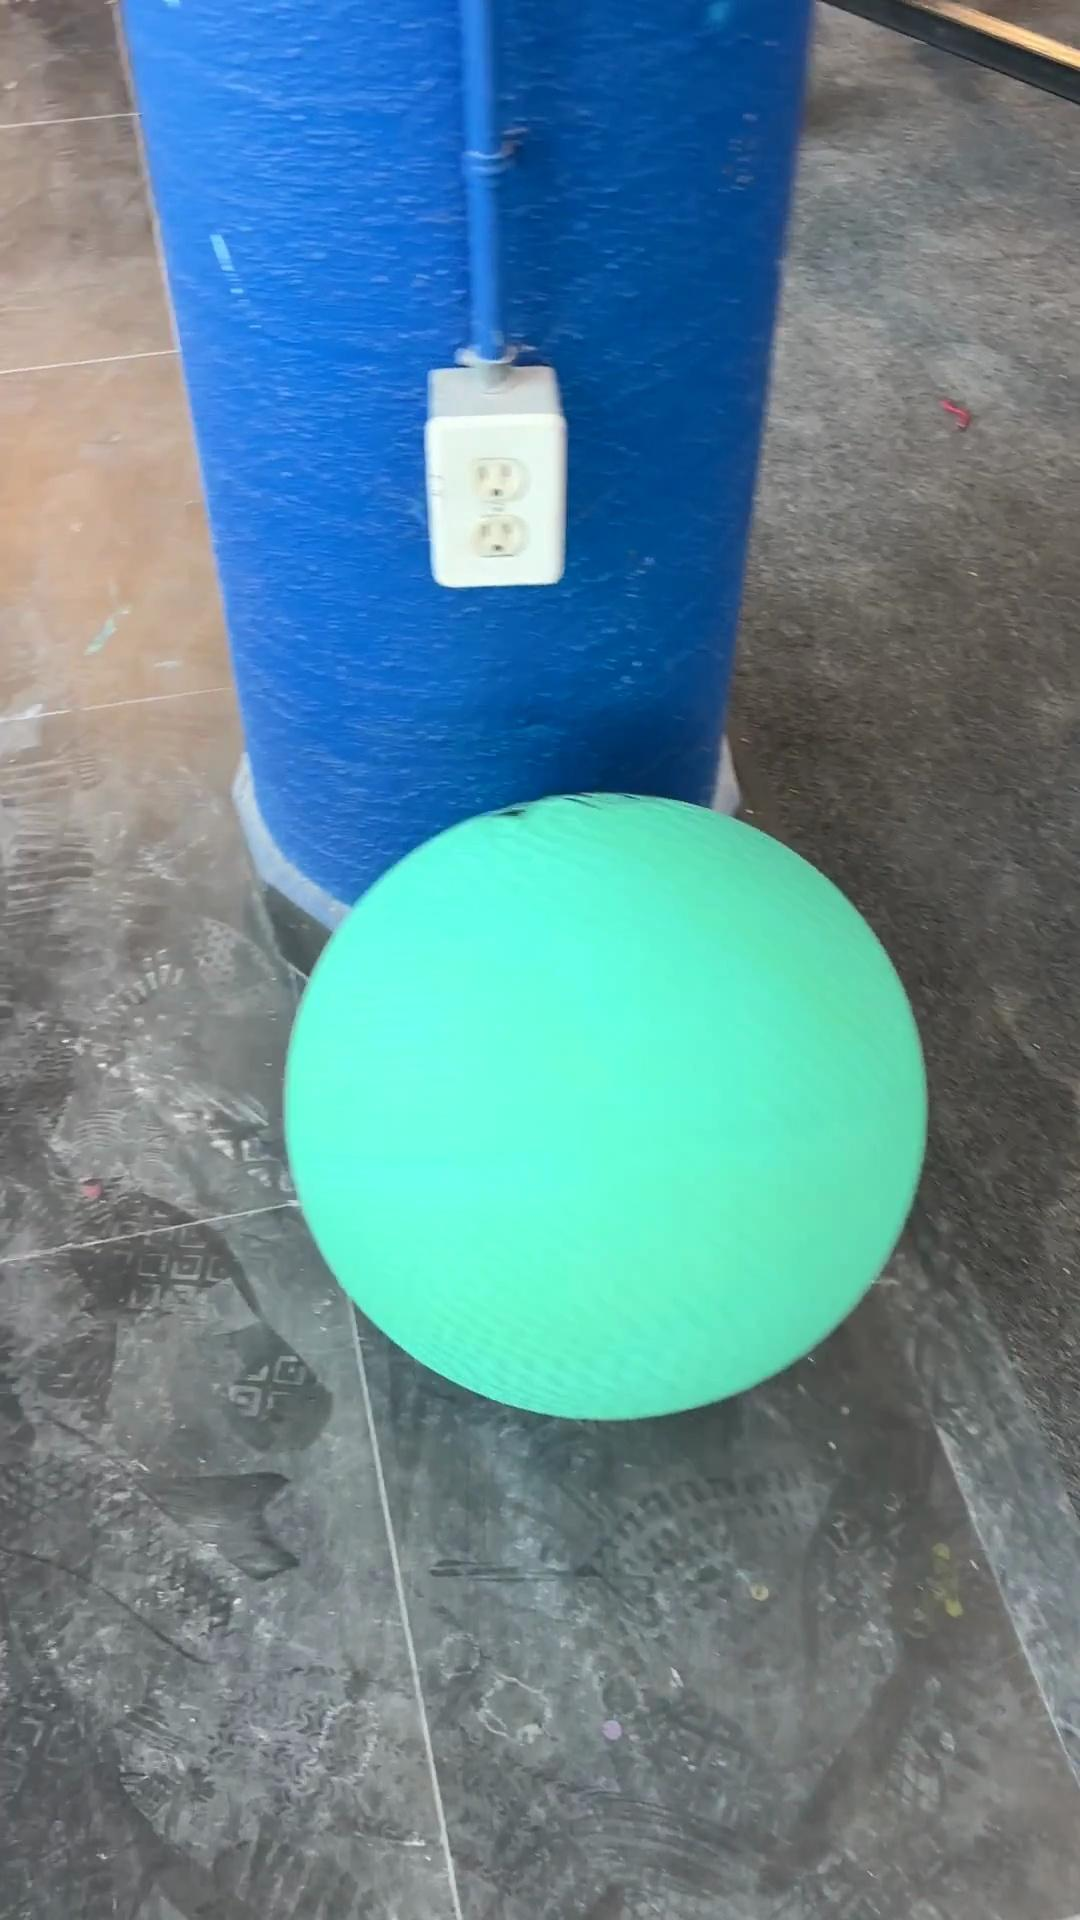ALGAE: (280, 787, 930, 1423)
